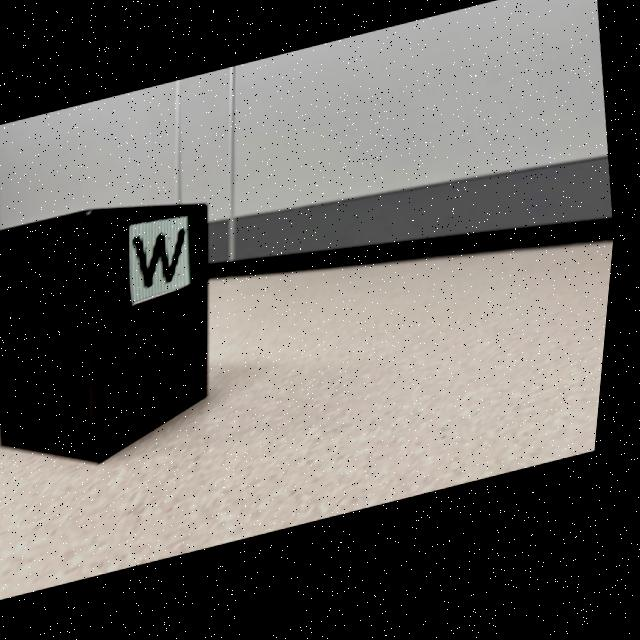W: (138, 234, 187, 289)
